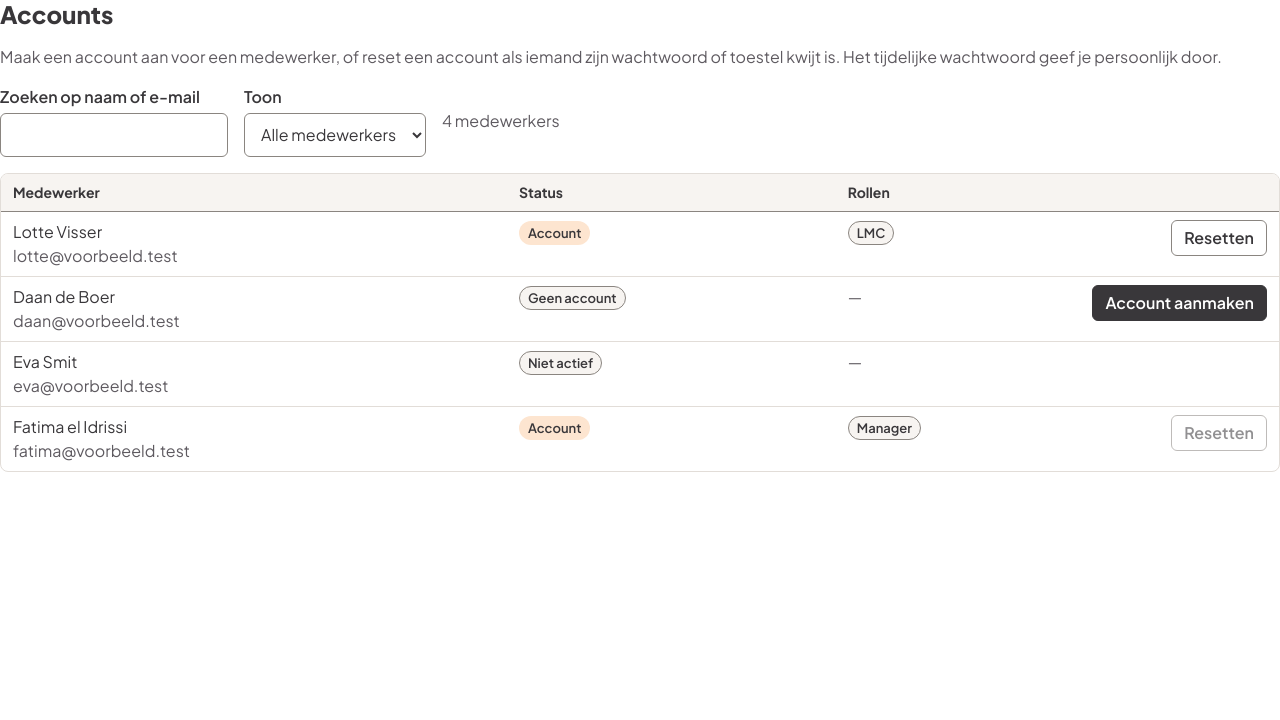
Accounts: aanmaken en wachtwoordstap › aanmaken kan pas met minstens één rol, en geeft de gekozen rollen door
expect the table is shown: met, box x1=1 y1=174 x2=1279 y2=471
Step 1. Click the button with aria-label "Account aanmaken voor Daan de Boer" → (1180, 303), box x1=1092 y1=285 x2=1267 y2=321
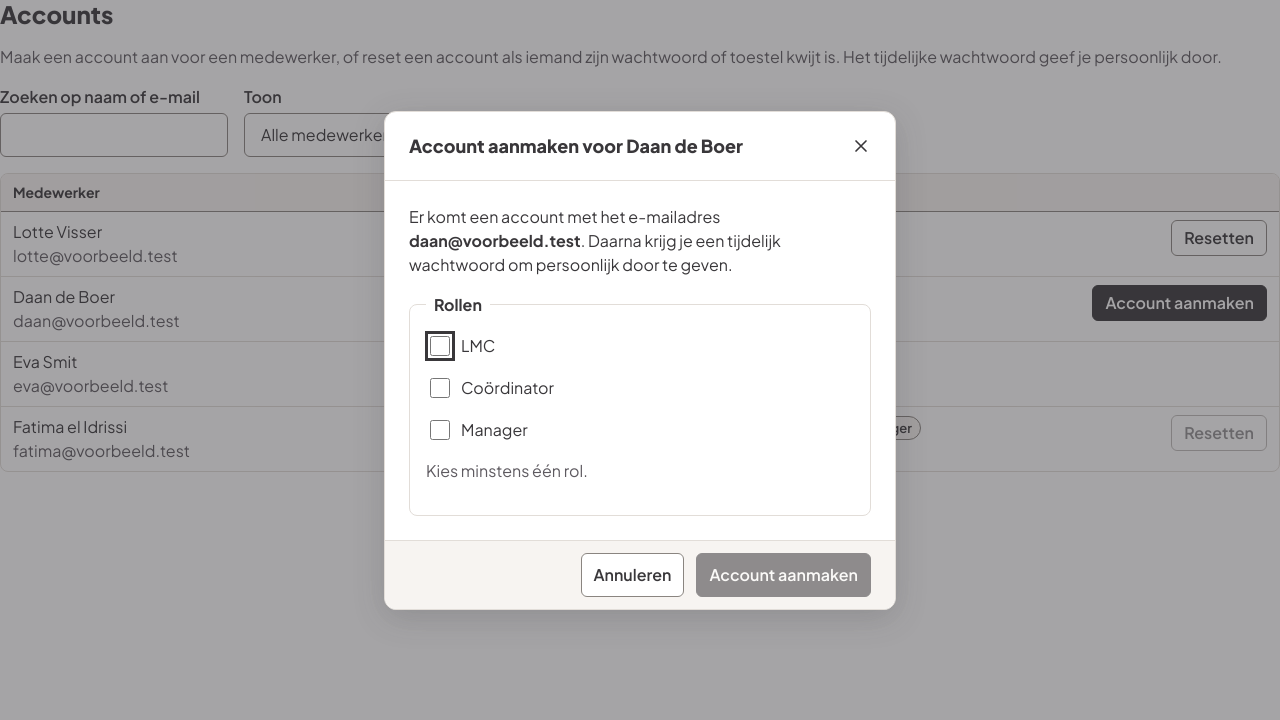
expect the button "Account aanmaken" is disabled: met, box x1=696 y1=552 x2=871 y2=596
Step 2. Click the checkbox labelled "Coördinator" → (440, 388), box x1=430 y1=378 x2=450 y2=398
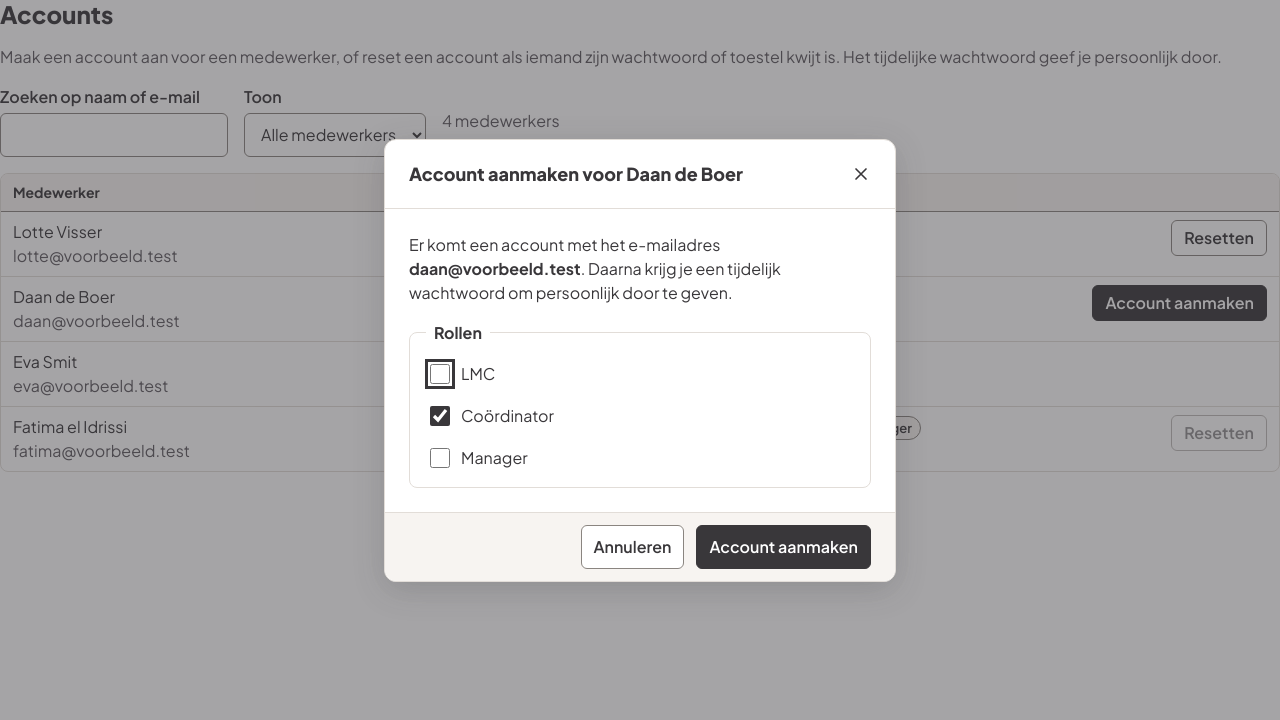
expect the button "Account aanmaken" is enabled: met
Step 3. Click the button "Account aanmaken" → (784, 546), box x1=696 y1=524 x2=871 y2=568
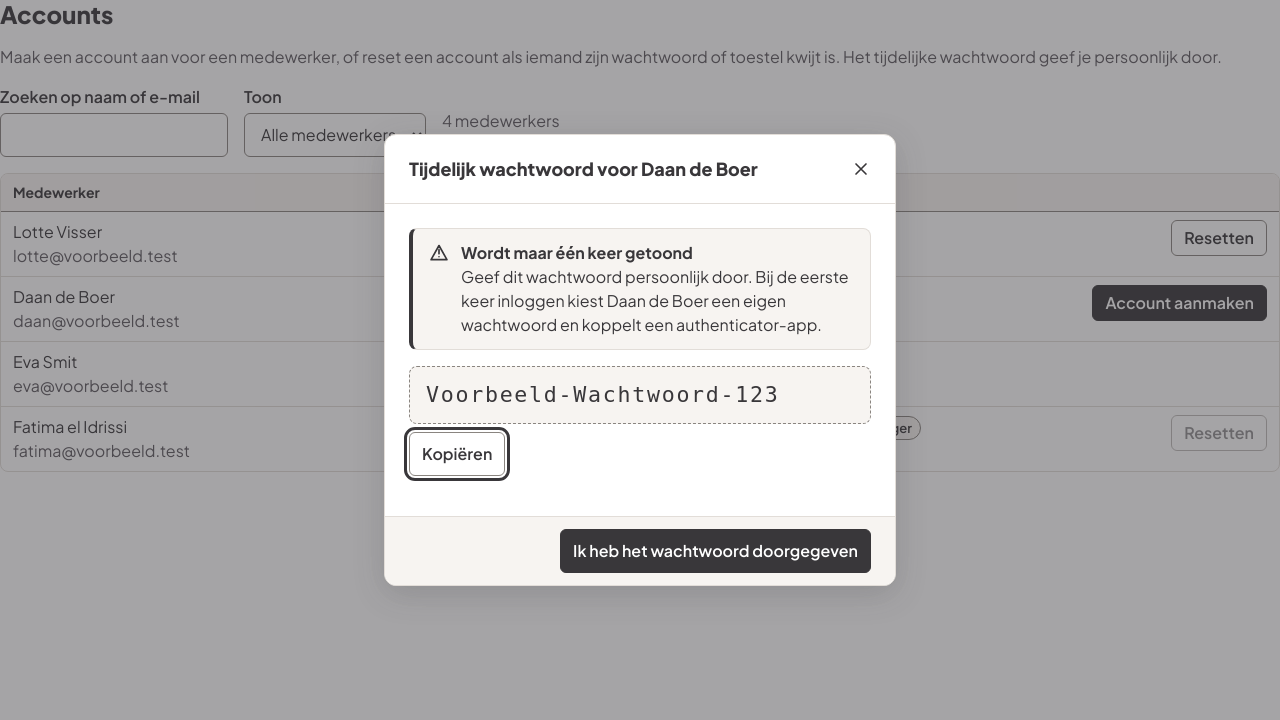
expect the dialog "Tijdelijk wachtwoord voor Daan de Boer" is shown: met, box x1=384 y1=134 x2=896 y2=586
